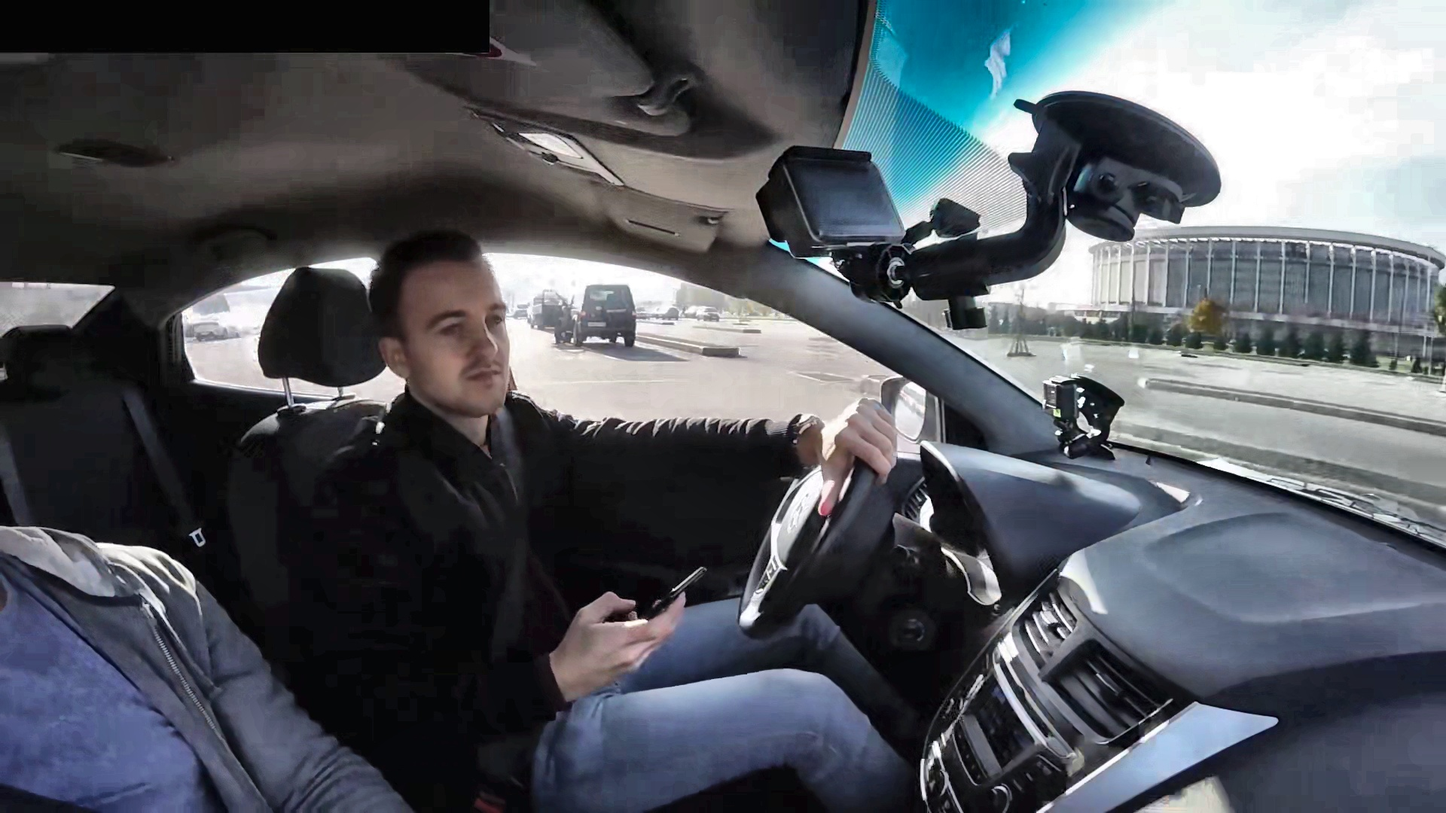car: (0, 179, 960, 786), (0, 207, 679, 778), (989, 80, 1256, 230)
